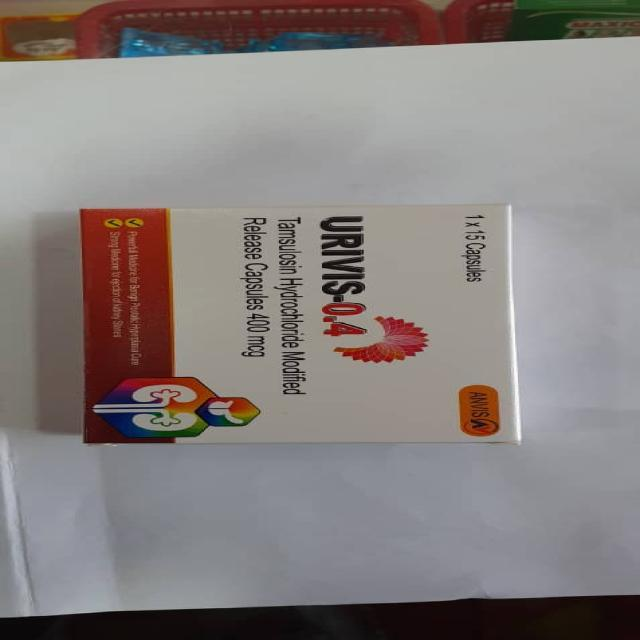drug-name: (316, 210, 369, 338)
